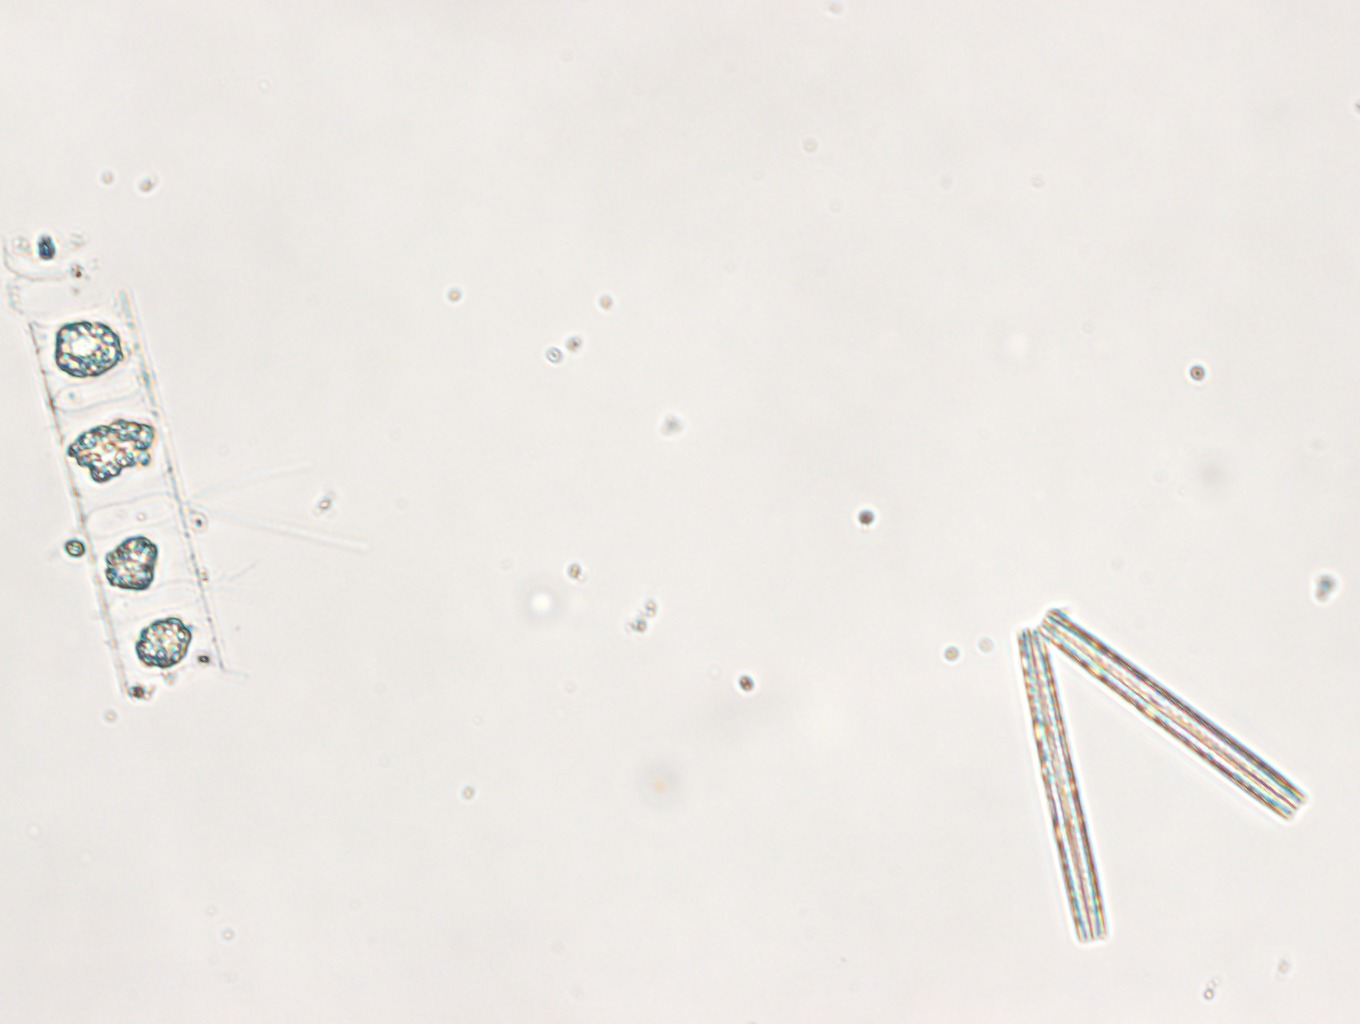chaetoceros: (29, 291, 376, 706)
thalassionema nitzschioides: (1016, 605, 1307, 945)
